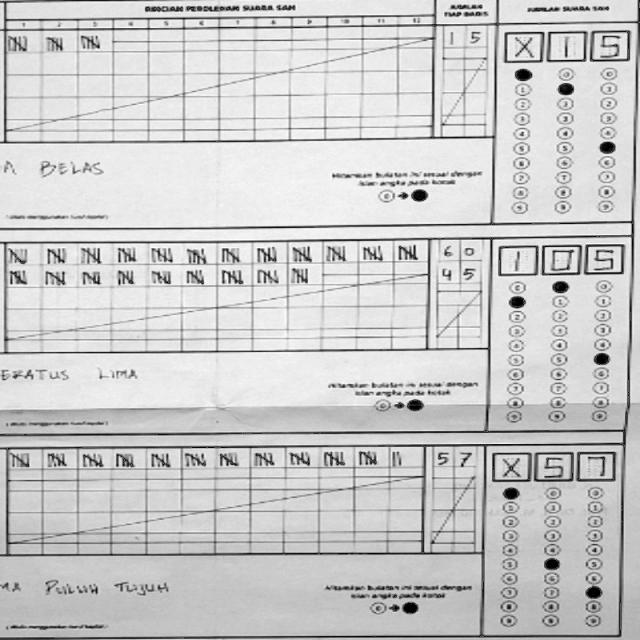Suara: (492, 240, 625, 277), (499, 25, 631, 62), (488, 448, 618, 483)
